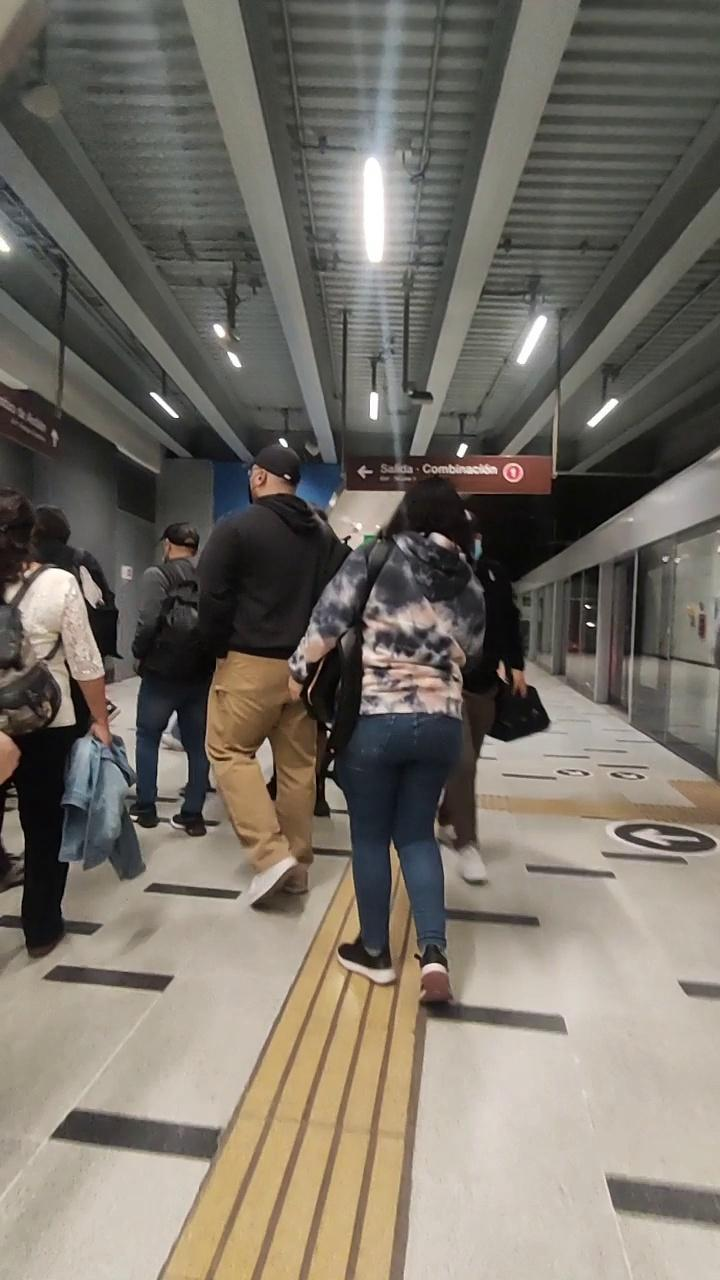left arrow: (354, 464, 378, 482)
